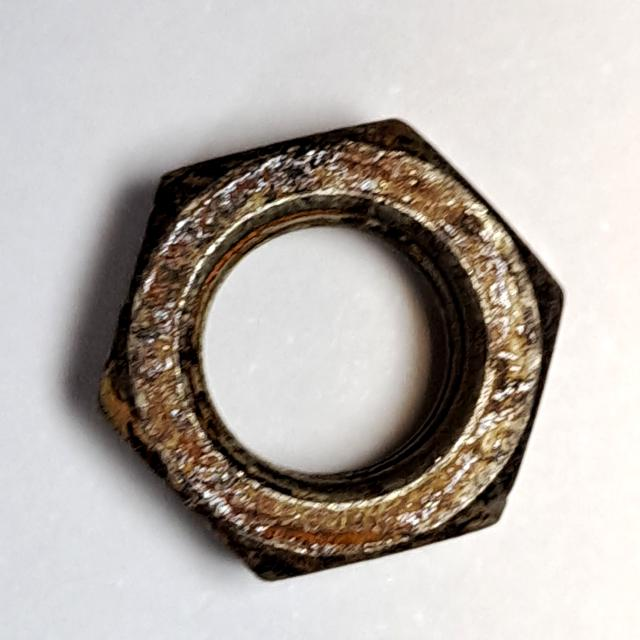Rust: (81, 90, 578, 597)
